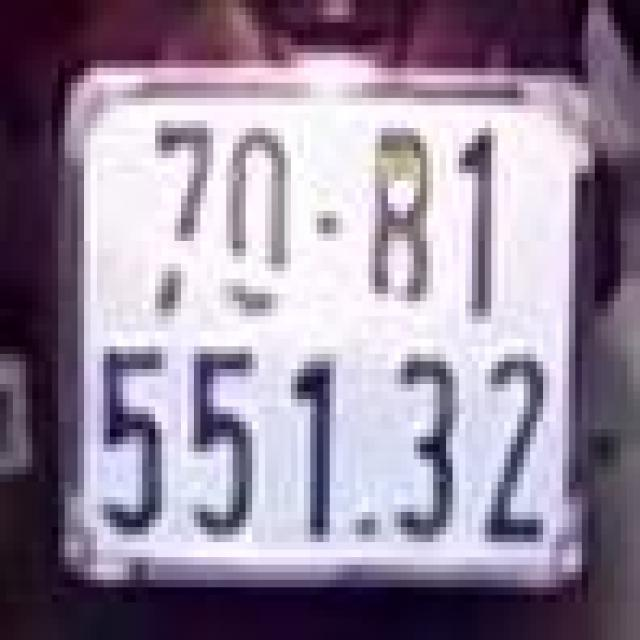0: (220, 102, 291, 335)
1: (285, 339, 336, 565), (456, 116, 501, 328)
2: (478, 335, 556, 553)
3: (382, 346, 466, 550)
5: (87, 339, 165, 542), (184, 335, 262, 538)
7: (139, 98, 223, 324)
B: (362, 113, 440, 346)
